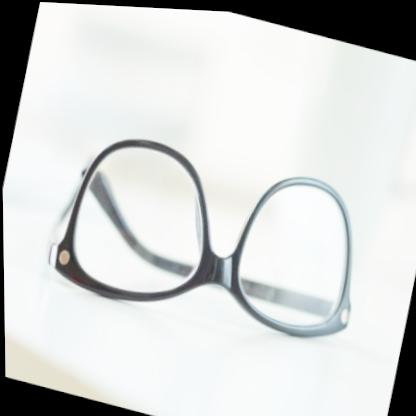Spectacles: (34, 107, 376, 359)
